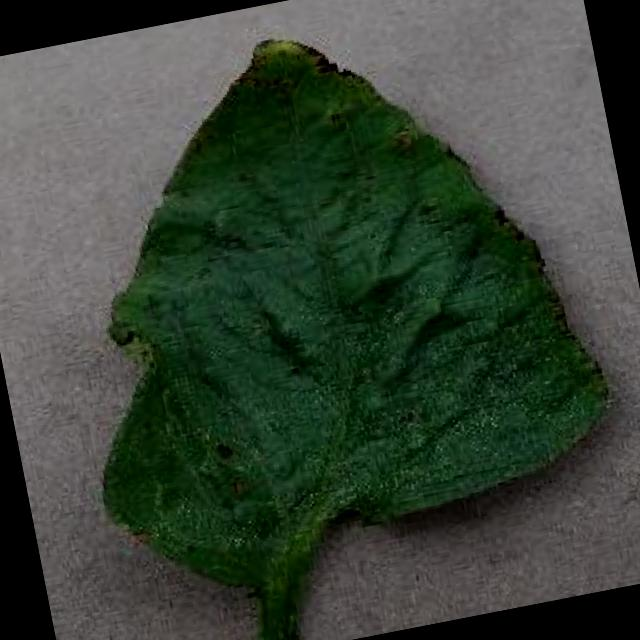bacterial spot: (108, 42, 608, 638)
